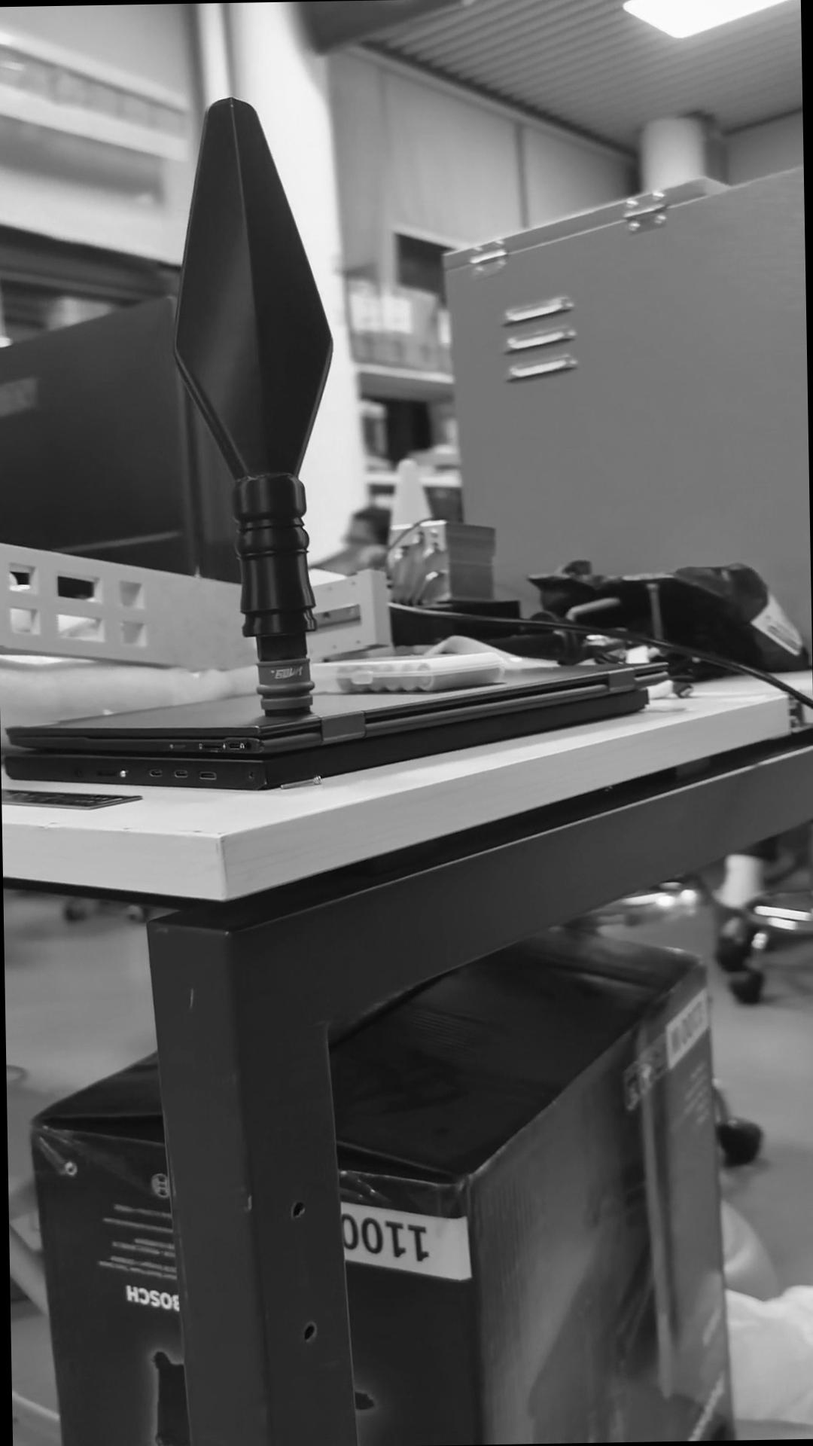base: (250, 650, 320, 734)
